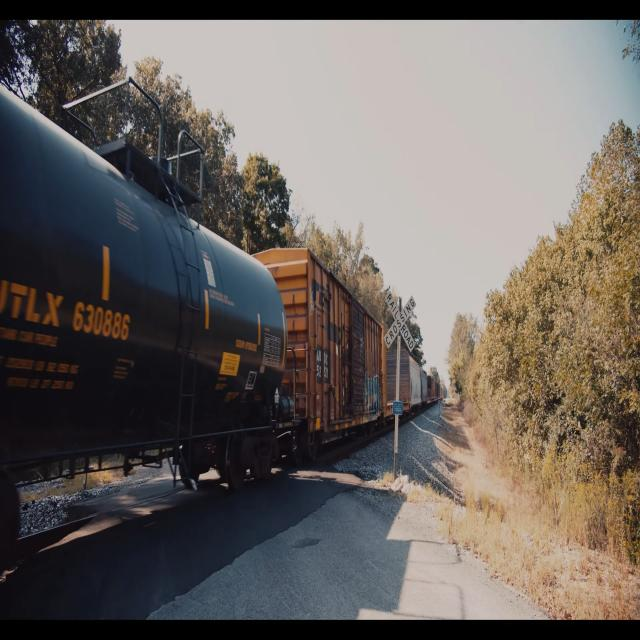boxcar: (256, 246, 382, 459)
tank: (3, 73, 298, 593)
